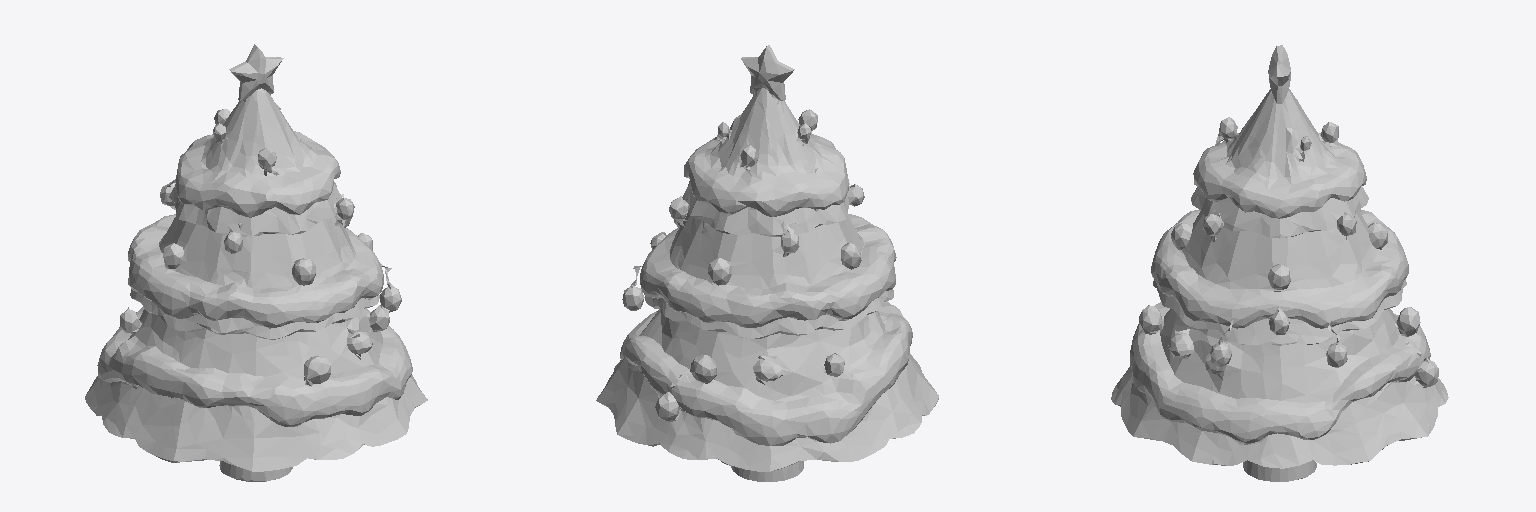
File: christmas_pine.obj
3 renders of one model, left to right at view 1: azimuth 30°, elevation 25°; view 2: azimuth 150°, elevation 25°; view 3: azimuth 270°, elevation 25°, orthographic.
Visible parts, largest first — view 1: Christmas_pine_tree_w_[number redacted]_texture; view 2: Christmas_pine_tree_w_[number redacted]_texture; view 3: Christmas_pine_tree_w_[number redacted]_texture.
Part boxes in pixels (x1,y1,x2,y2): Christmas_pine_tree_w_[number redacted]_texture: (85,44,427,481); Christmas_pine_tree_w_[number redacted]_texture: (596,45,938,481); Christmas_pine_tree_w_[number redacted]_texture: (1111,45,1448,481).
Size of the model in its own units: 1.39 by 1.91 by 1.39.